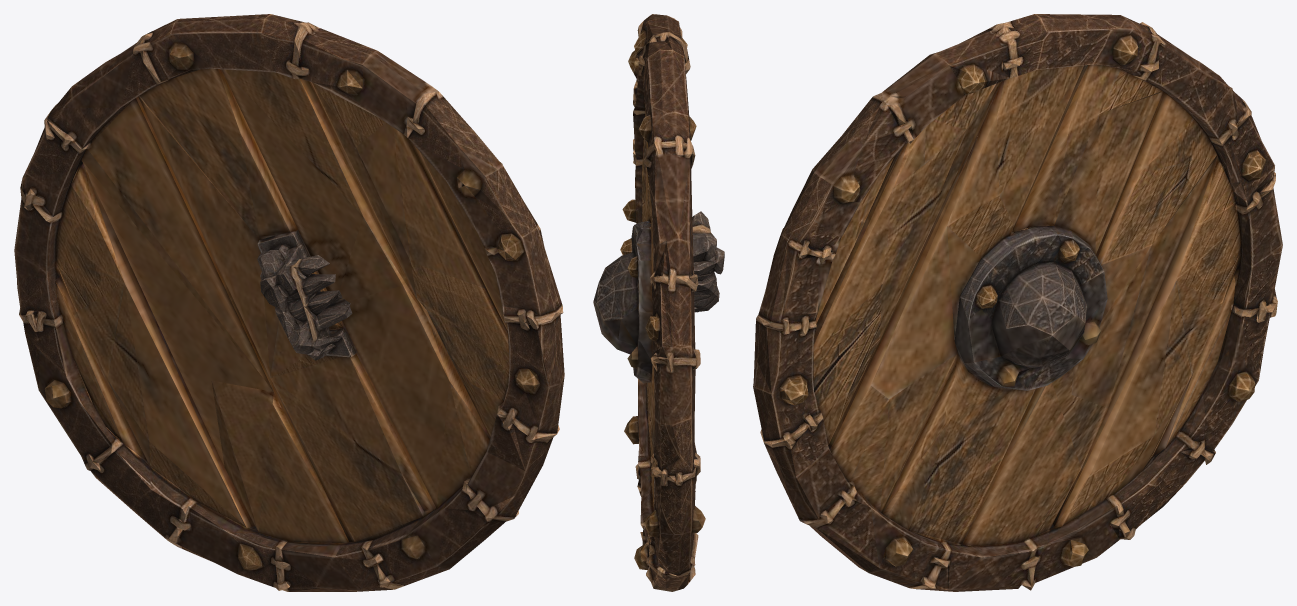
File: leather-shield.glb
The picture shows the model from 3 angles, left to right: view 1: azimuth 30°, elevation 25°; view 2: azimuth 150°, elevation 25°; view 3: azimuth 270°, elevation 25°; orthographic projection. The views are drawn at different scales.
Visible parts, largest first — view 1: Module_native_leather_shield; view 2: Module_native_leather_shield; view 3: Module_native_leather_shield.
Part boxes in pixels (left/top/right/bottom): Module_native_leather_shield: left=14, top=14, right=564, bottom=591; Module_native_leather_shield: left=593, top=14, right=724, bottom=591; Module_native_leather_shield: left=753, top=14, right=1282, bottom=591.
Bounding box in the file's own units: 0.4014 × 0.7084 × 0.6008.
1 material, 1 textured.
